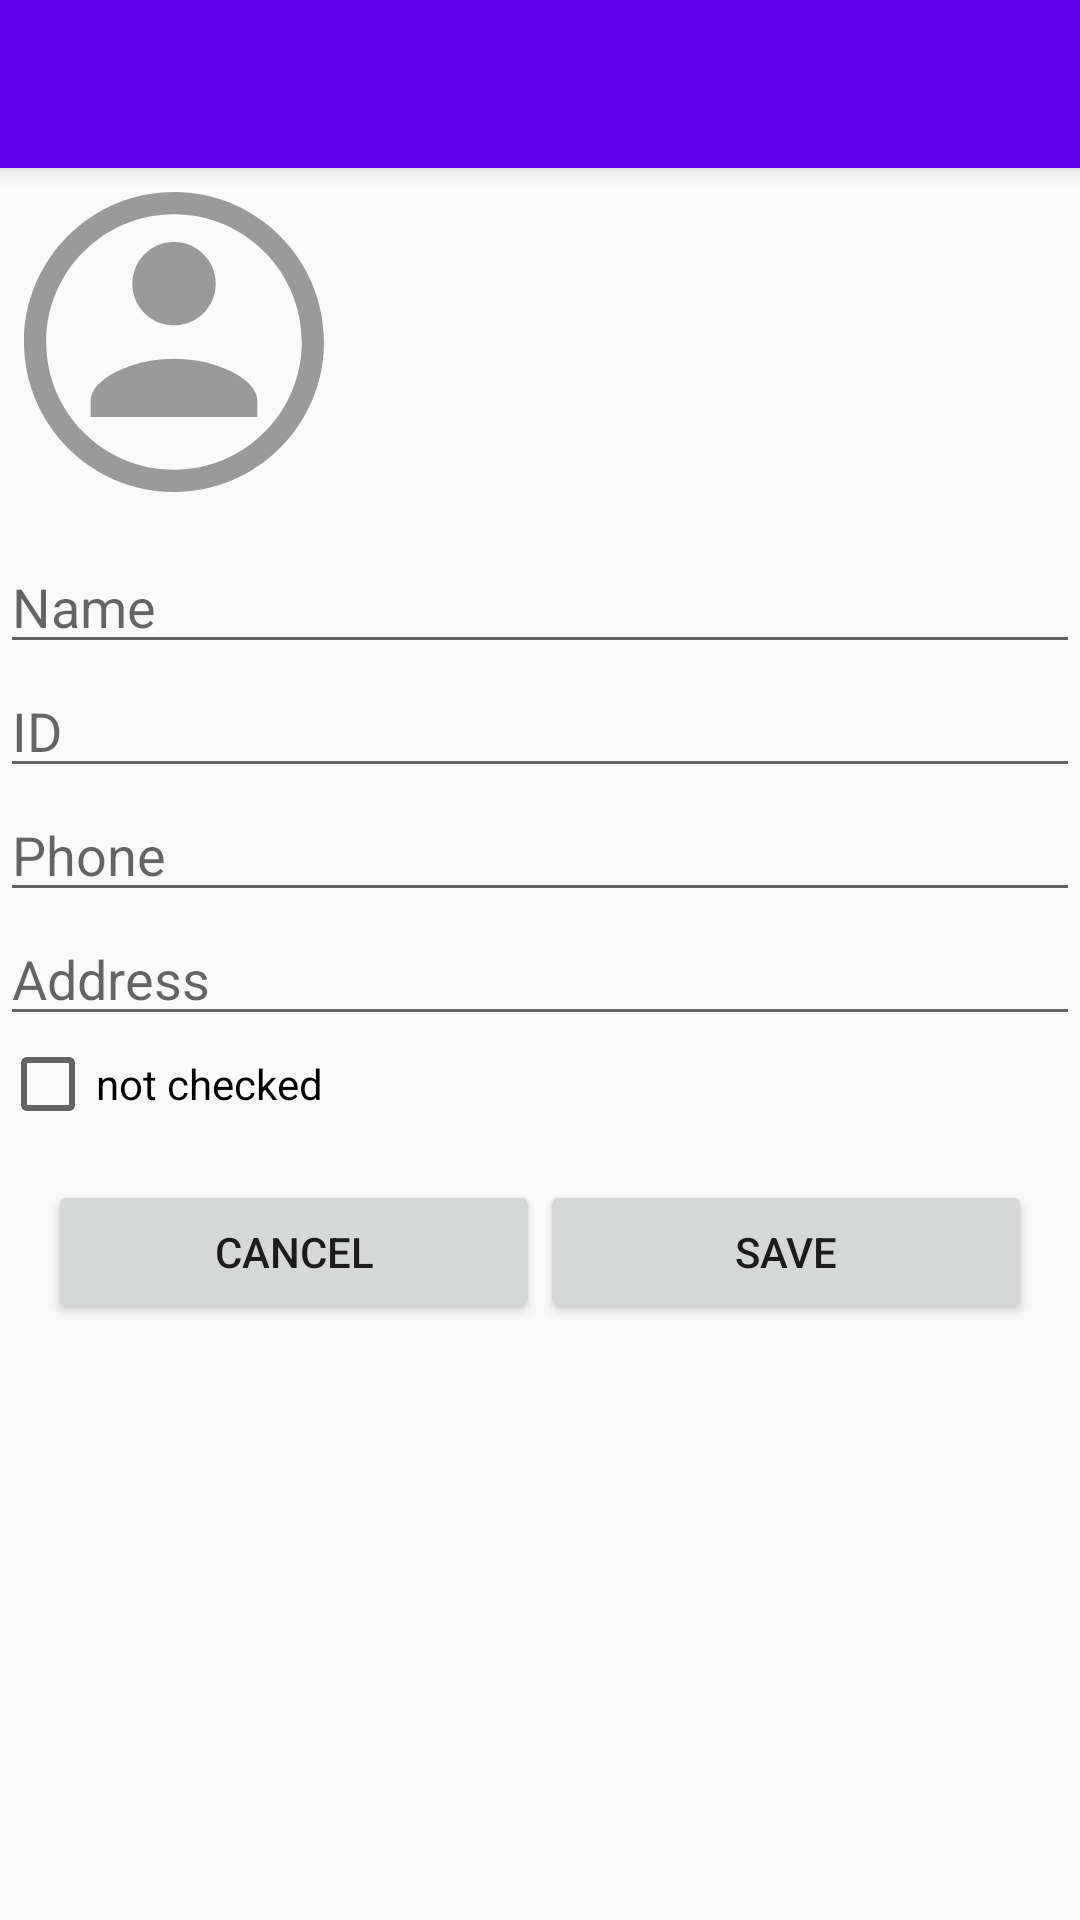

Where icons sit on this 1080×1920 app screen, as region(x1, y1, x2, y2):
student: region(24, 192, 324, 492)
